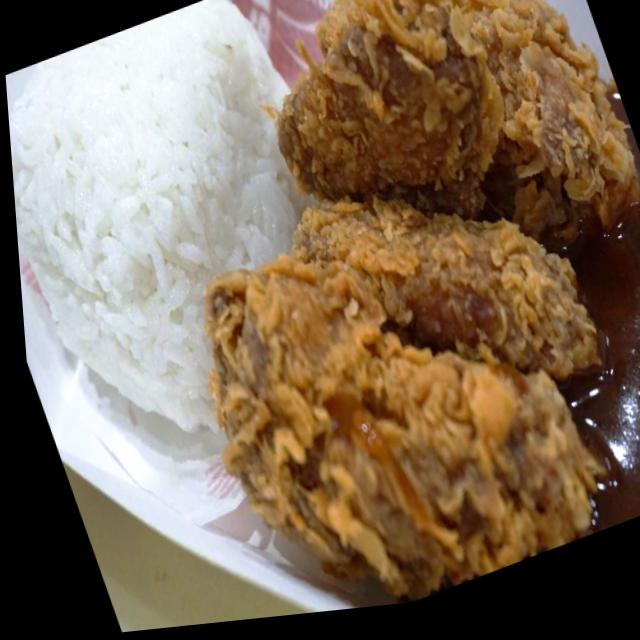fried_chicken: (154, 116, 640, 625), (0, 0, 390, 469), (225, 0, 640, 326)
